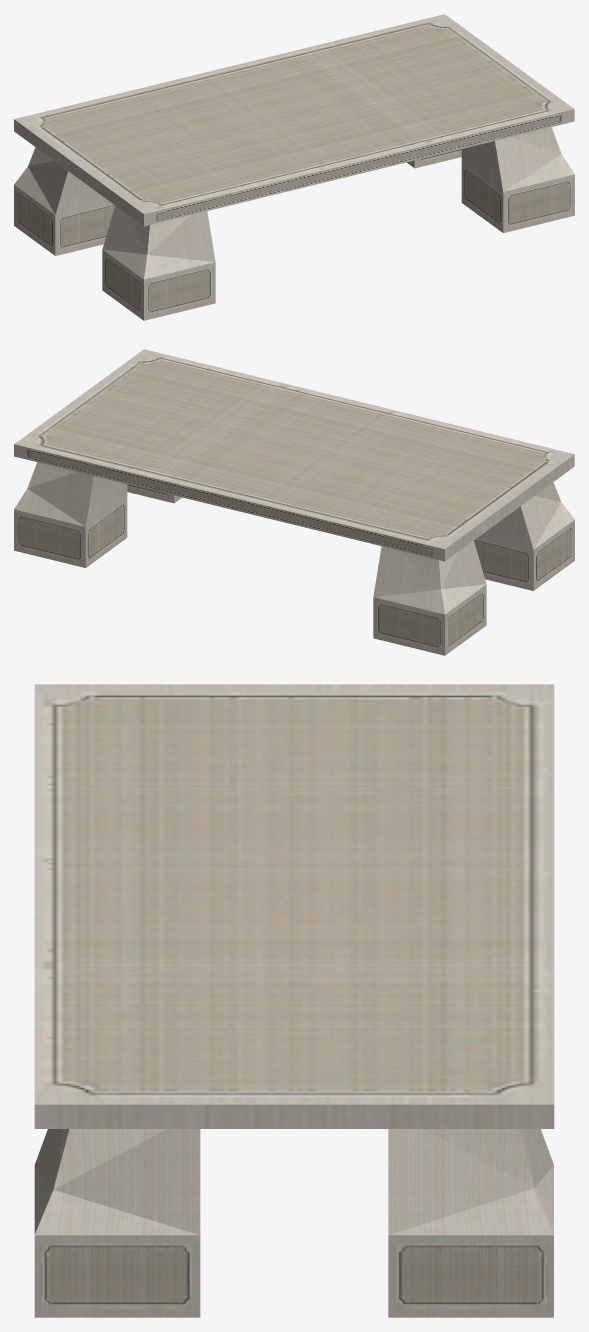
The model's file is frn_all_eleg_coffee_table_s01_l1.fbx.
The picture shows the model from 3 angles, top to bottom: view 1: azimuth 30°, elevation 25°; view 2: azimuth 150°, elevation 25°; view 3: azimuth 270°, elevation 25°; orthographic projection. The views are drawn at different scales.
Parts seen in each view (by area): view 1: mesh_node; view 2: mesh_node; view 3: mesh_node.
Boxes of the visible parts, box(x1,y1,x2,y2) form: mesh_node: box(14, 14, 574, 320); mesh_node: box(14, 349, 574, 655); mesh_node: box(34, 684, 554, 1317).
Size of the model in its own units: 1.69 by 0.3985 by 0.8813.
1 material, 1 textured.
